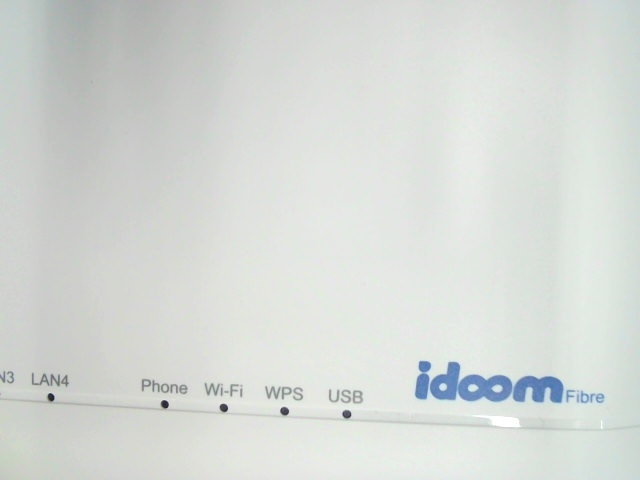BB_idoom: (413, 354, 608, 416)
